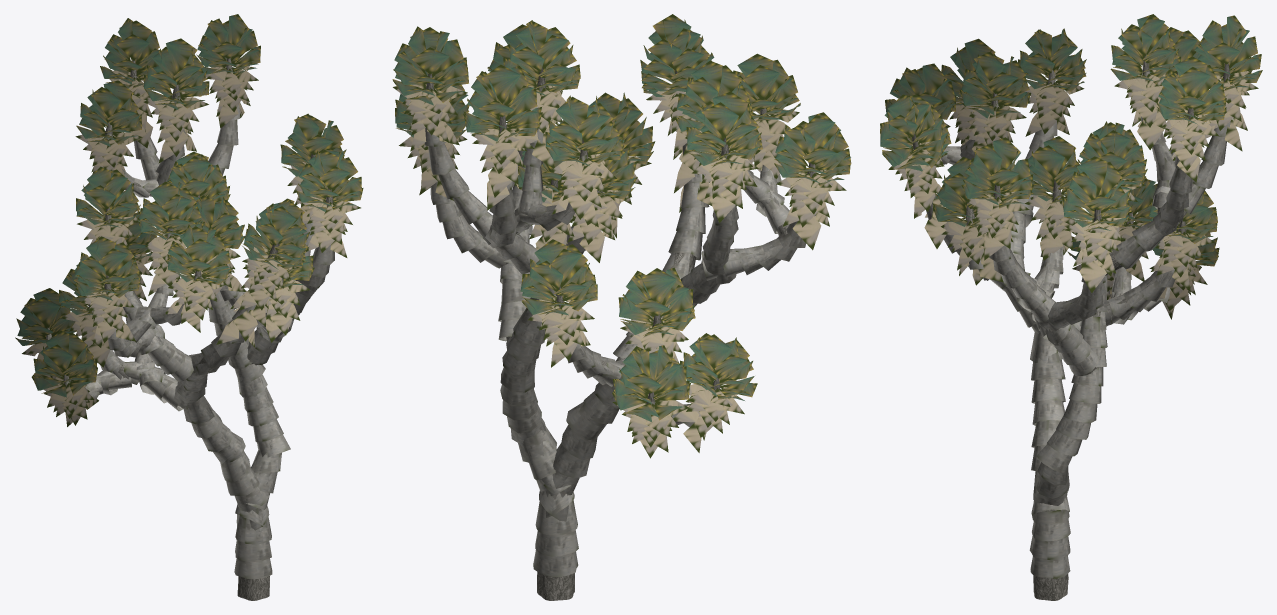
The picture shows the model from 3 angles, left to right: view 1: azimuth 30°, elevation 25°; view 2: azimuth 150°, elevation 25°; view 3: azimuth 270°, elevation 25°; orthographic projection. The views are drawn at different scales.
Visible parts, largest first — view 1: jt8; view 2: jt8; view 3: jt8.
Boxes of the visible parts, x1,y1,x2,y2 form: jt8: [15, 14, 363, 600]; jt8: [392, 14, 851, 600]; jt8: [880, 14, 1262, 600].
Size of the model in its own units: 3.71 by 5.79 by 3.57.
